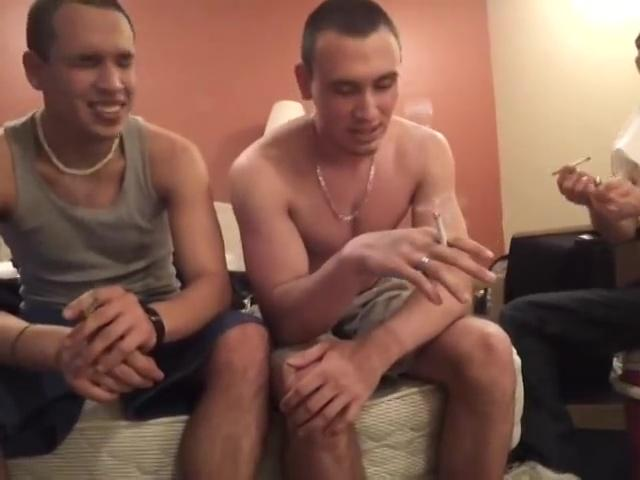cigarette: (548, 154, 594, 177), (431, 208, 453, 249), (76, 296, 103, 322)
